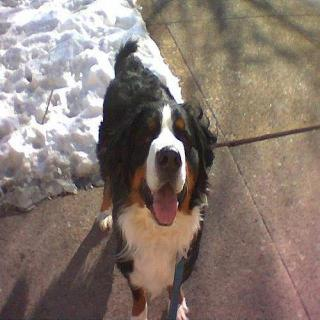dog: (109, 99, 219, 231)
nose: (155, 146, 184, 172)
